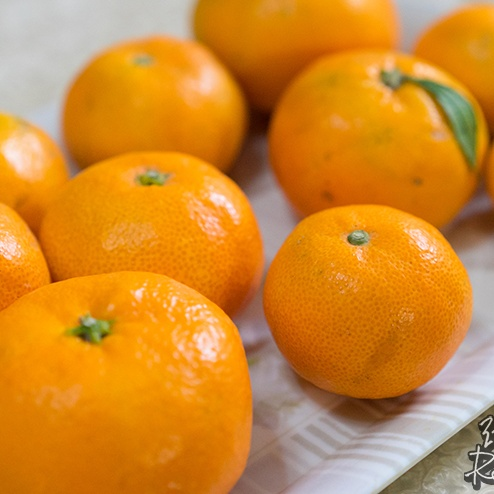mandarin: (2, 270, 253, 494), (263, 204, 474, 396), (263, 48, 488, 224), (39, 151, 263, 326), (60, 35, 250, 174), (192, 1, 398, 116), (408, 1, 494, 204), (1, 108, 67, 237)
